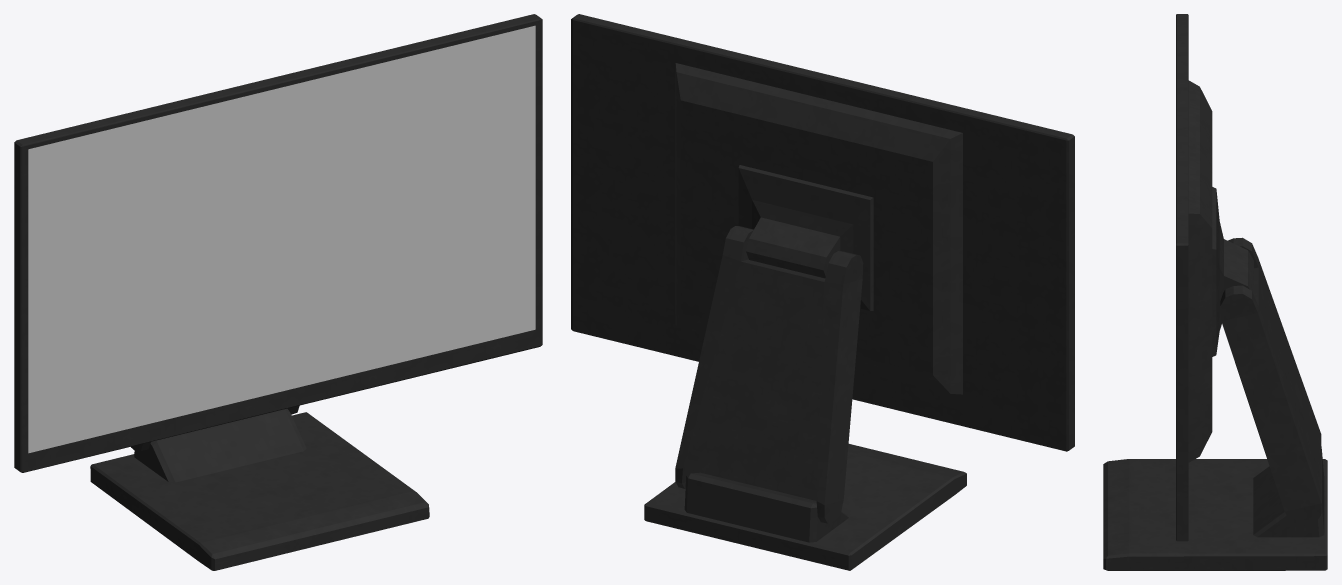
Rendered from CR_Moniter.fbx.
3 views of the same model, side by side, from view 1: azimuth 30°, elevation 25°; view 2: azimuth 150°, elevation 25°; view 3: azimuth 270°, elevation 25° (orthographic). The views are drawn at different scales.
Visible parts, largest first — view 1: Moniter; view 2: Moniter; view 3: Moniter.
Part boxes in pixels (left/top/right/bottom): Moniter: left=14, top=14, right=542, bottom=570; Moniter: left=571, top=14, right=1074, bottom=570; Moniter: left=1103, top=14, right=1327, bottom=570.
Size of the model in its own units: 48.91 by 38.95 by 20.06.
